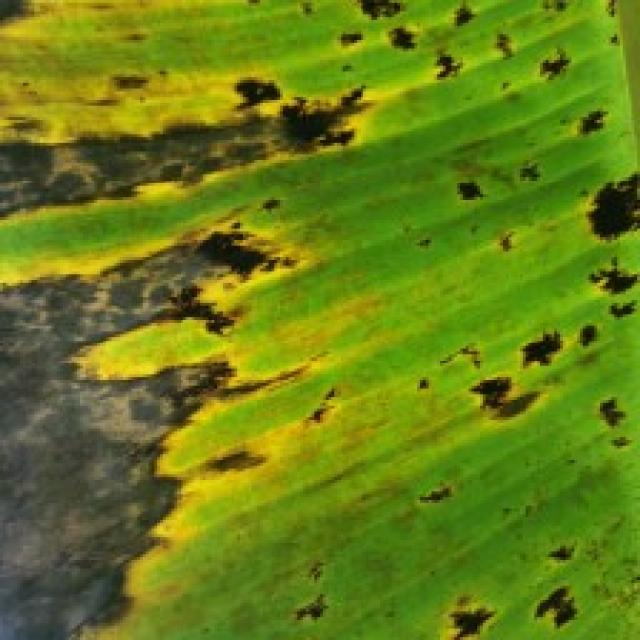Downey_mildrew: (0, 0, 391, 640), (414, 317, 637, 640), (397, 2, 640, 254), (583, 103, 640, 380)
